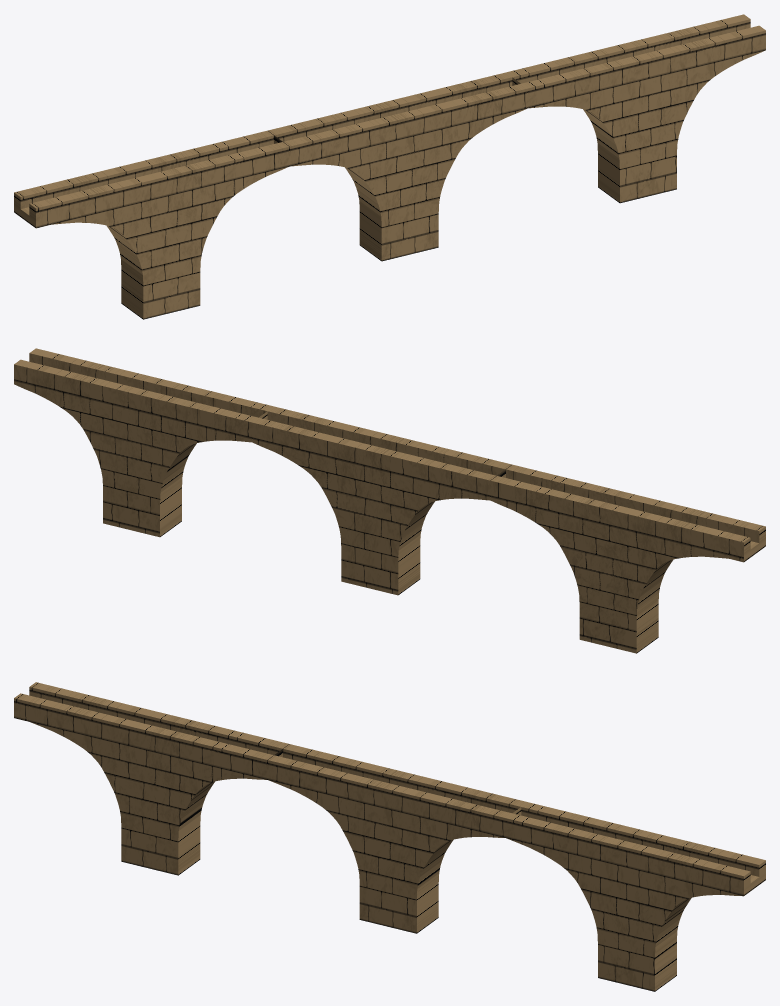
Rendered from Acueducto.fbx.
3 renders of one model, top to bottom at view 1: azimuth 30°, elevation 25°; view 2: azimuth 150°, elevation 25°; view 3: azimuth 330°, elevation 25°, orthographic.
Parts seen in each view (by area): view 1: Box003; view 2: Box003; view 3: Box003.
Boxes of the visible parts, box(x1,y1,x2,y2) form: Box003: box(14, 14, 765, 319); Box003: box(14, 348, 765, 653); Box003: box(14, 682, 765, 991).
Bounding box in the file's own units: 3.84 × 0.6893 × 0.2.
Materials: 1 (1 with a texture image).
